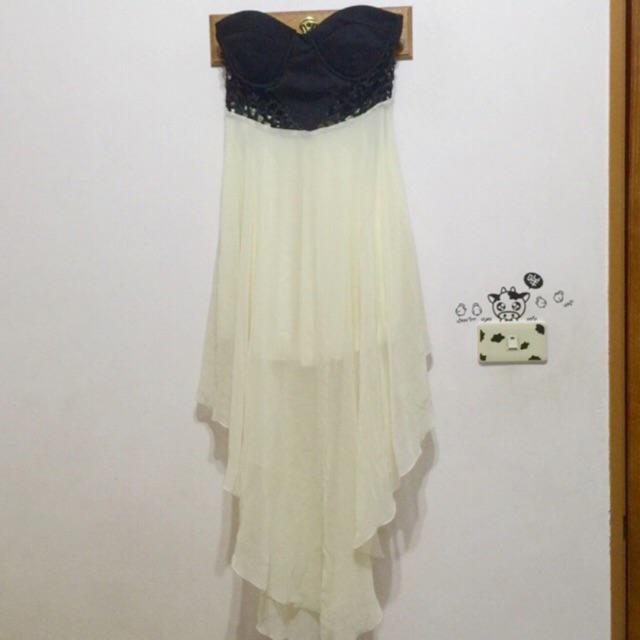Dresses: (200, 6, 431, 640)
